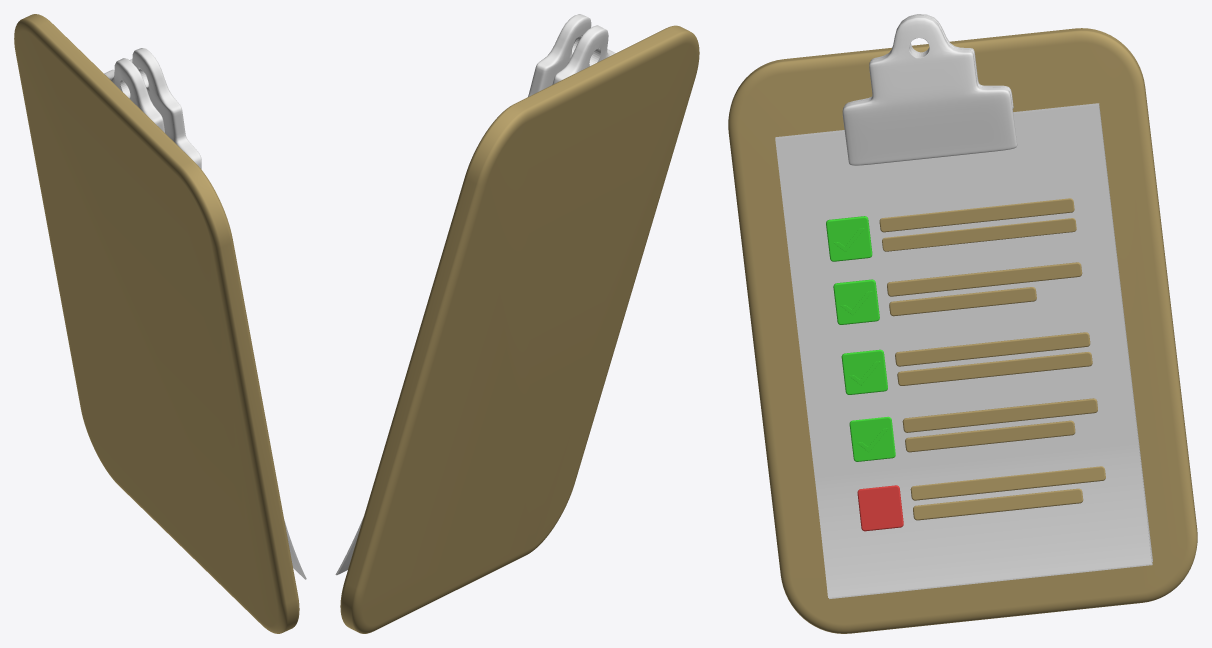
Rendered from doc.fbx.
3 renders of one model, left to right at view 1: azimuth 30°, elevation 25°; view 2: azimuth 150°, elevation 25°; view 3: azimuth 270°, elevation 25°, orthographic. The views are drawn at different scales.
Visible parts, largest first — view 1: Cube; view 2: Cube; view 3: Cube.
Part boxes in pixels (x1,y1,x2,y2): Cube: (14,14,306,633); Cube: (335,14,699,633); Cube: (728,14,1197,633).
Size of the model in its own units: 66.26 by 235 by 175.
